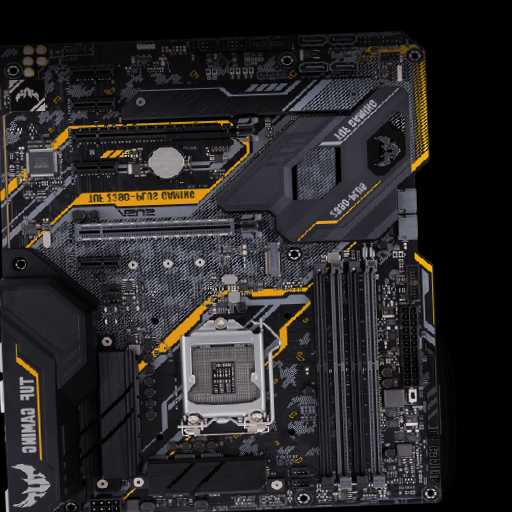CPU: (180, 316, 268, 436)
GPU: (76, 213, 264, 241), (65, 121, 258, 141)
MOTHERBOARD: (1, 31, 435, 510)
RAM: (314, 250, 388, 494)
SSD: (262, 242, 283, 279)
